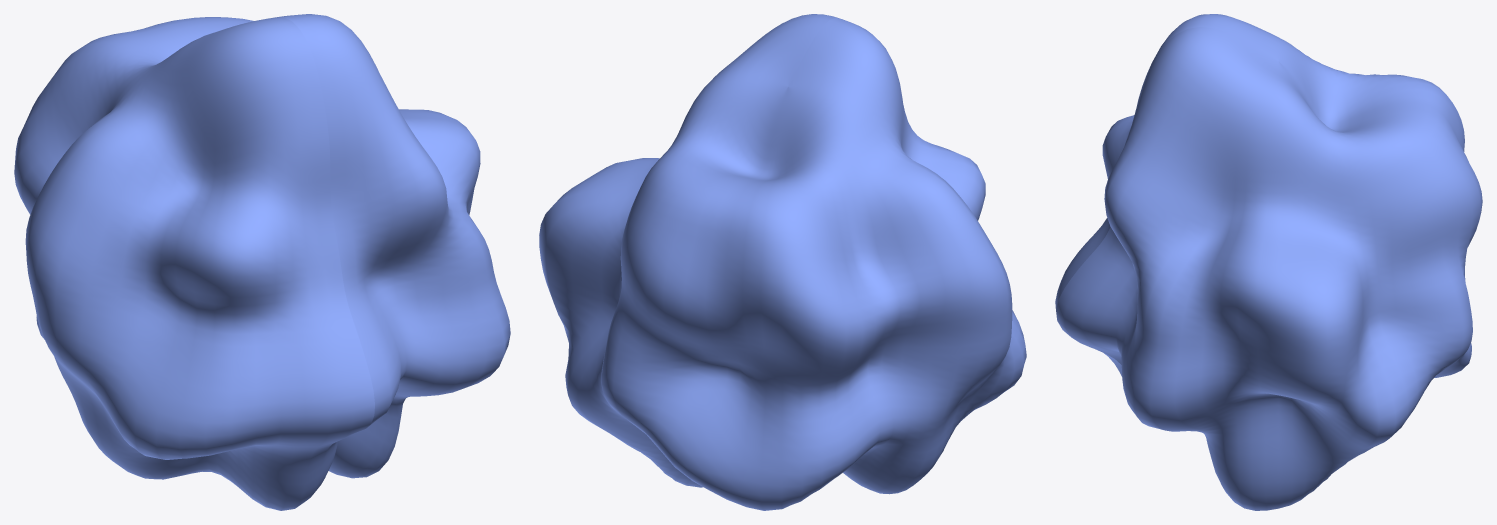
Rendered from animated_organic_blob.glb.
3 views of the same model, side by side, from view 1: azimuth 30°, elevation 25°; view 2: azimuth 150°, elevation 25°; view 3: azimuth 270°, elevation 25° (orthographic). The views are drawn at different scales.
Bounding box in the file's own units: 4.82 × 4.92 × 4.34.
